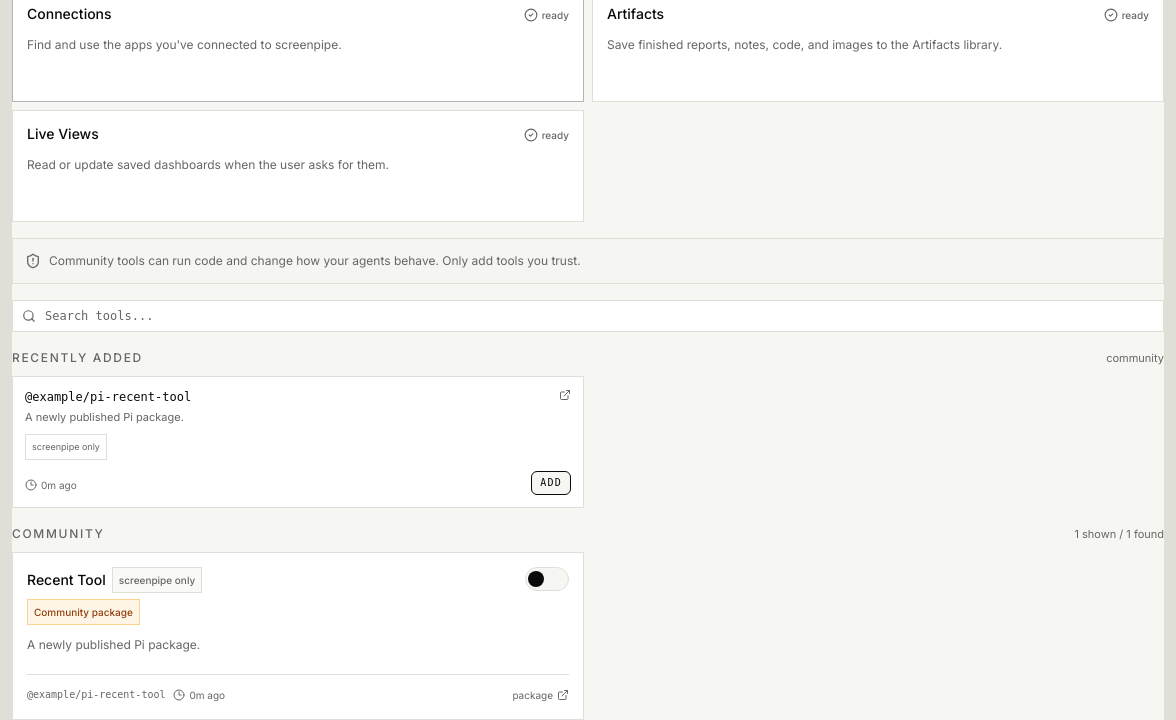
Test: PiExtensionsCard › installs a recently published package directly from its compact card
This screenshot has width=1176, height=720.
(page scrolled)
Expected: the heading "Recently added" is shown, [12,350,143,366]
Click the button with aria-label "Add Recent Tool" at (551, 482), box [531,470,571,494]
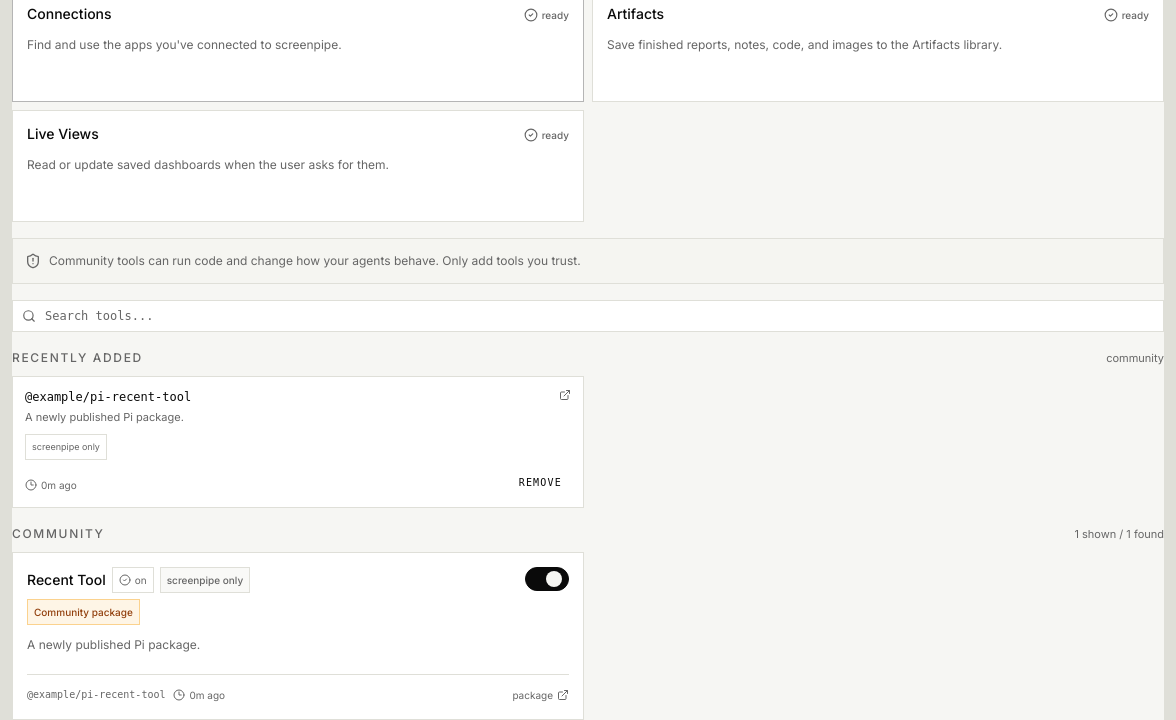
Expected: the button with aria-label "Remove Recent Tool" is shown, [510,470,571,494]
